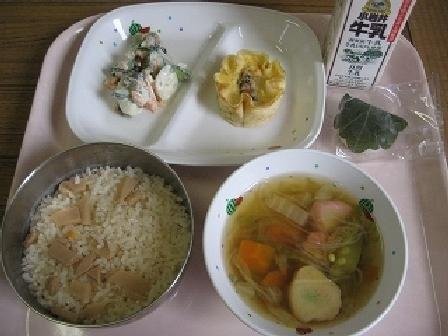Milk: (314, 0, 419, 87)
Mixed rice: (5, 145, 195, 325)
Salad: (102, 24, 185, 116)
desserts: (203, 42, 297, 131)
vegetable soup: (207, 150, 409, 333)
